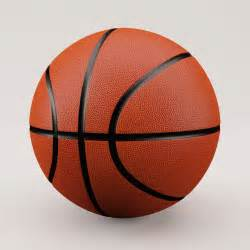basketball: (27, 27, 222, 223)
